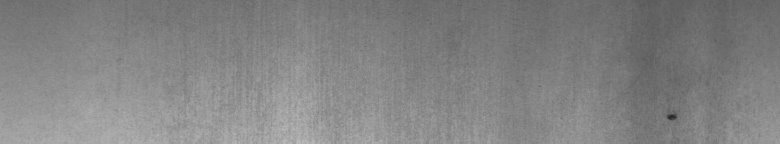fi: (664, 104, 680, 128)
